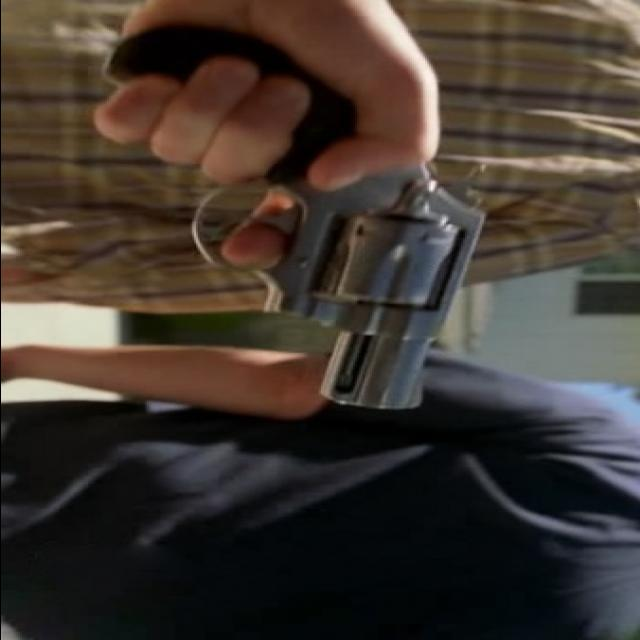weapons: (78, 20, 520, 420)
